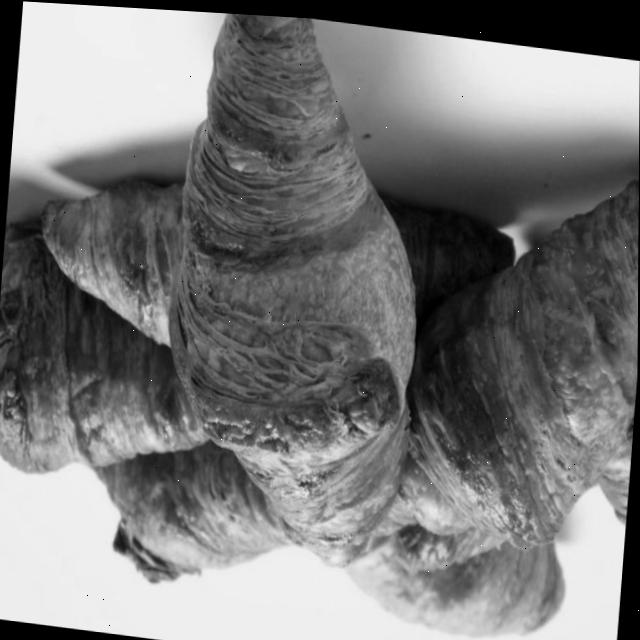面包点心: (141, 7, 455, 596)
